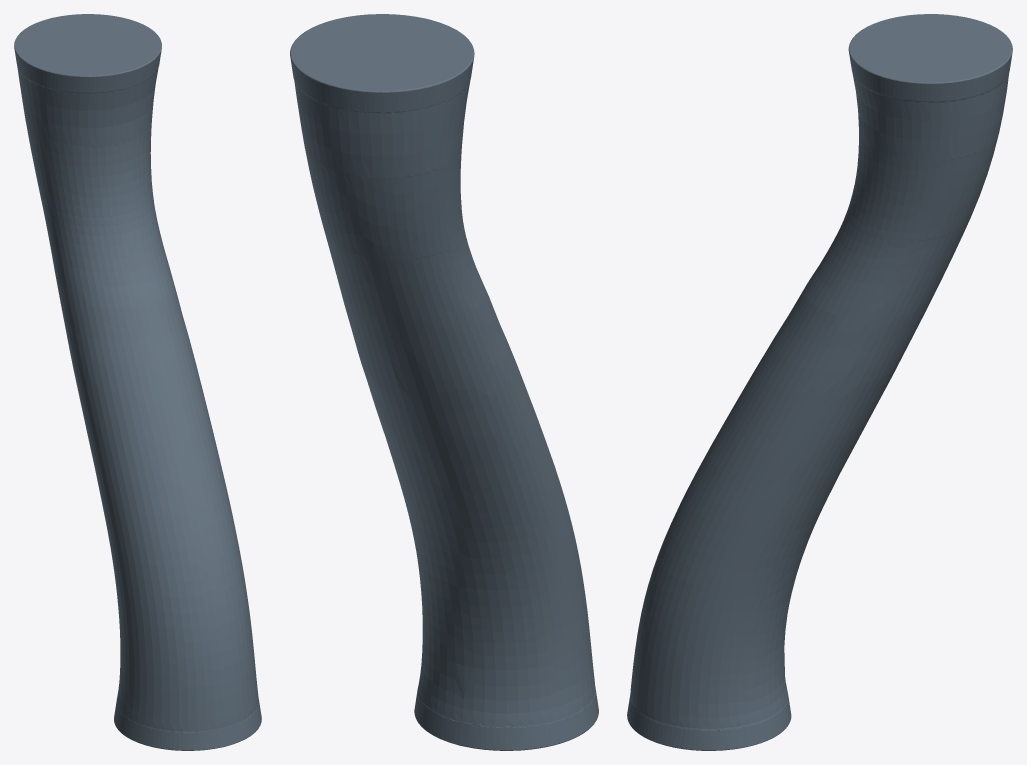
3 views of the same model, side by side, from view 1: azimuth 30°, elevation 25°; view 2: azimuth 150°, elevation 25°; view 3: azimuth 270°, elevation 25° (orthographic). The views are drawn at different scales.
Visible parts, largest first — view 1: A0912_4_1; view 2: A0912_4_1; view 3: A0912_4_1.
Boxes of the visible parts, left/top/right/bottom form: A0912_4_1: left=14, top=14, right=261, bottom=750; A0912_4_1: left=290, top=14, right=598, bottom=750; A0912_4_1: left=627, top=14, right=1012, bottom=750.
Size of the model in its own units: 90.48 by 213 by 406.
